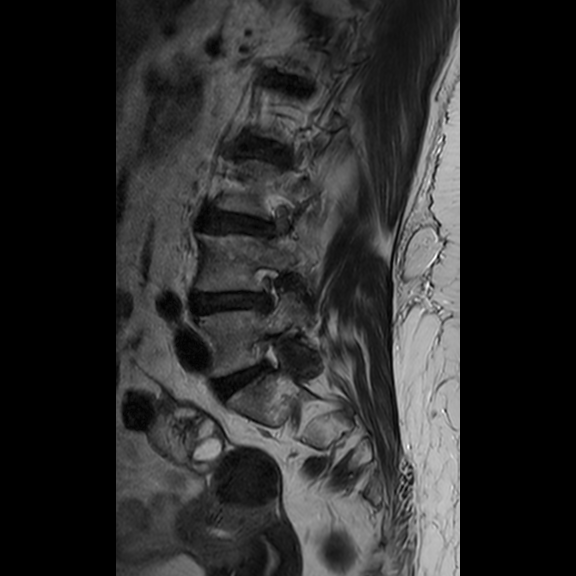LFS1: (242, 262, 295, 323)
